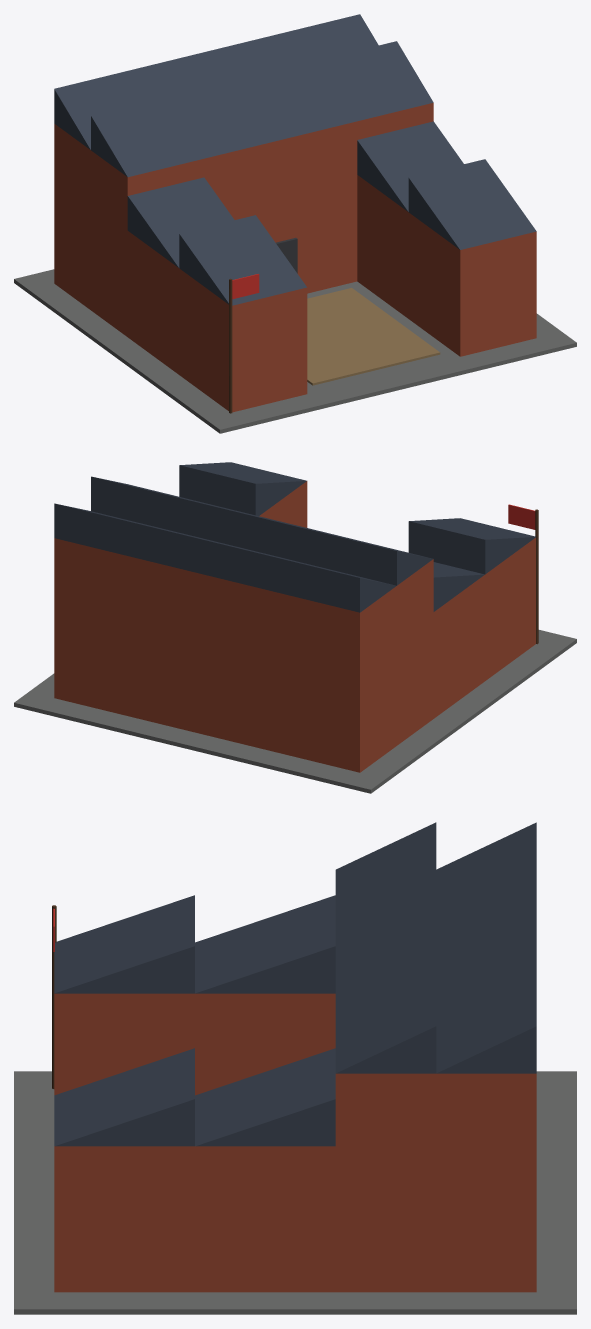
Rendered from bld_special_barracks_a05_lod2.glb.
3 views of the same model, one above another, from view 1: azimuth 30°, elevation 25°; view 2: azimuth 150°, elevation 25°; view 3: azimuth 270°, elevation 25° (orthographic). The views are drawn at different scales.
Parts seen in each view (by area): view 1: body; view 2: body; view 3: body.
Boxes of the visible parts, x1,y1,x2,y2 form: body: (14, 14, 576, 433); body: (14, 462, 576, 793); body: (14, 822, 576, 1314).
Size of the model in its own units: 14 by 7.45 by 14.
